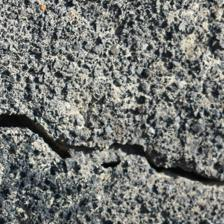Crack: (1, 63, 82, 159), (51, 84, 107, 136)
